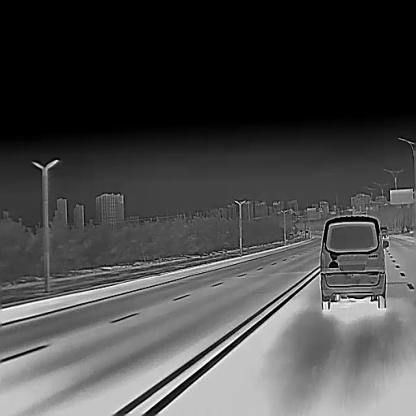car: (319, 214, 390, 310), (379, 225, 388, 238)
